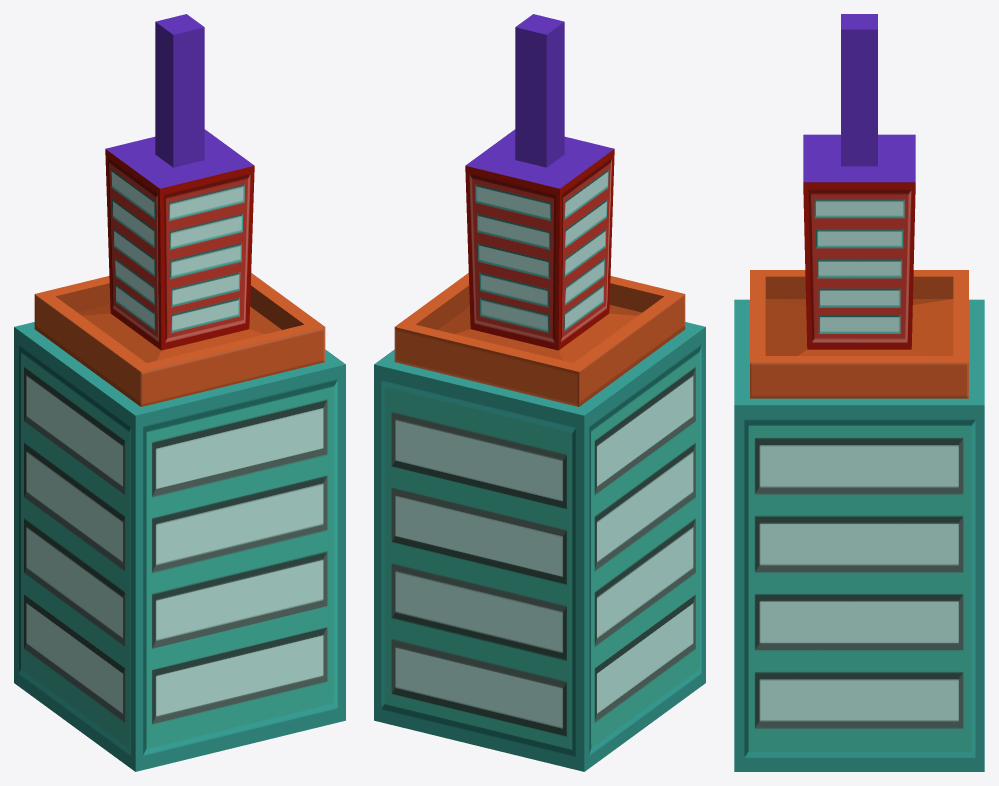
File: building set 2_04.fbx
3 renders of one model, left to right at view 1: azimuth 30°, elevation 25°; view 2: azimuth 150°, elevation 25°; view 3: azimuth 270°, elevation 25°, orthographic. The views are drawn at different scales.
Parts seen in each view (by area): view 1: pCube6; view 2: pCube6; view 3: pCube6.
Boxes of the visible parts, left/top/right/bottom form: pCube6: left=14, top=14, right=345, bottom=771; pCube6: left=374, top=14, right=705, bottom=771; pCube6: left=734, top=14, right=984, bottom=771.
Size of the model in its own units: 2.5 by 7.69 by 2.5.
